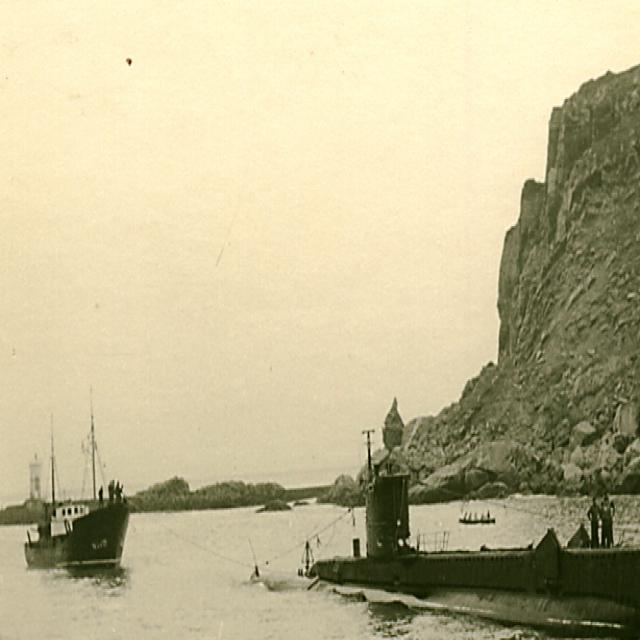submarine: (302, 430, 640, 640)
